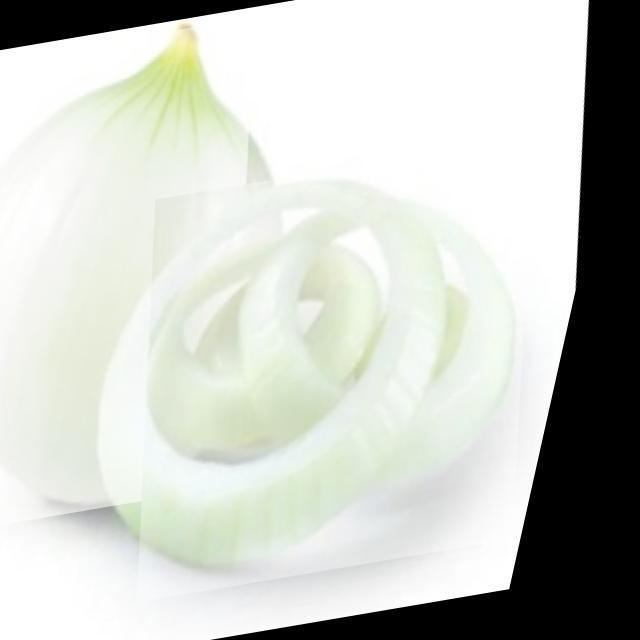Onion: (94, 135, 608, 602), (0, 16, 337, 536)
